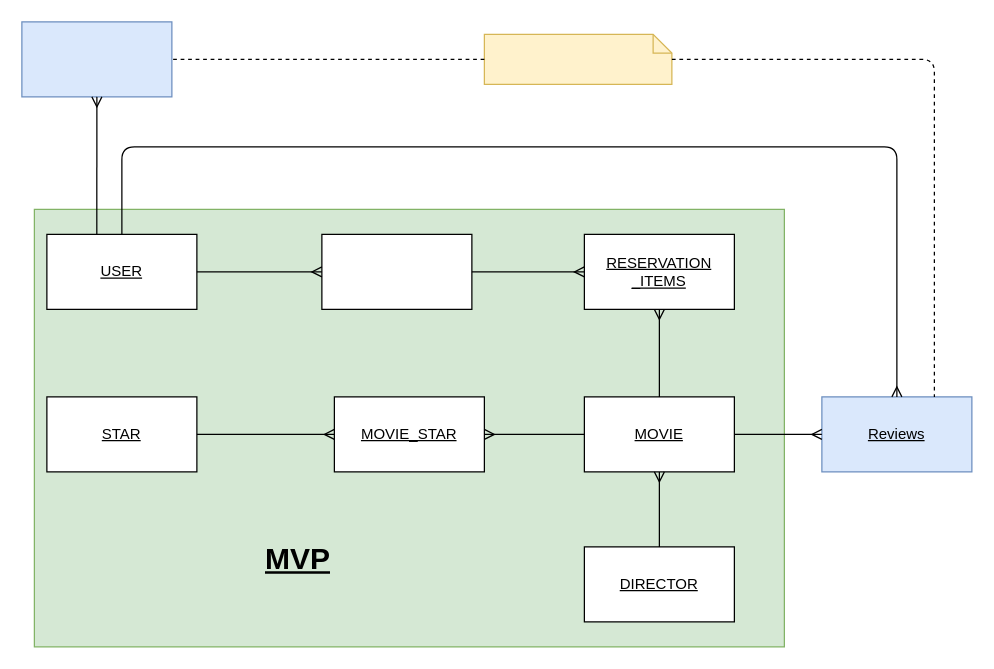
Some shapes in this 994 by 669 pixel diagram are drawn without their labels. Each missing label, with the centre of its shape:
"Events" goes at (96,59).
"RESERVATION" goes at (396,271).
"Stretch" goes at (577,58).
